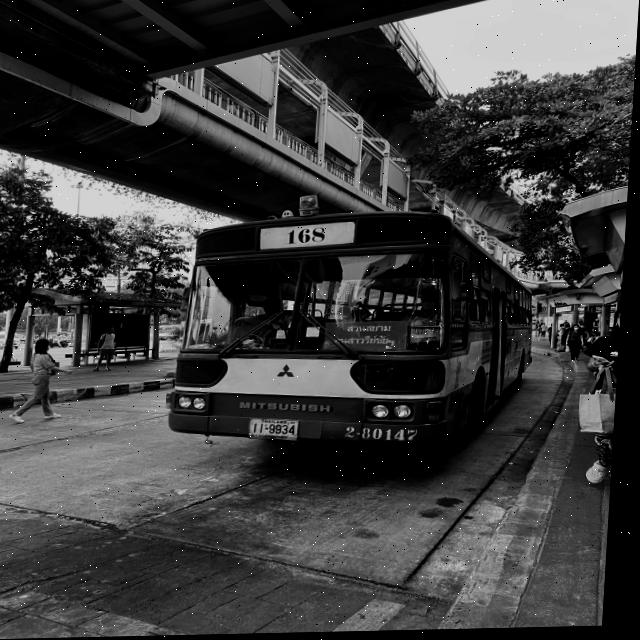BMTA-bus: (168, 211, 543, 456)
Bus-Line-Number: (279, 226, 333, 249)
Destination-Sign-Normal: (328, 324, 412, 354)
